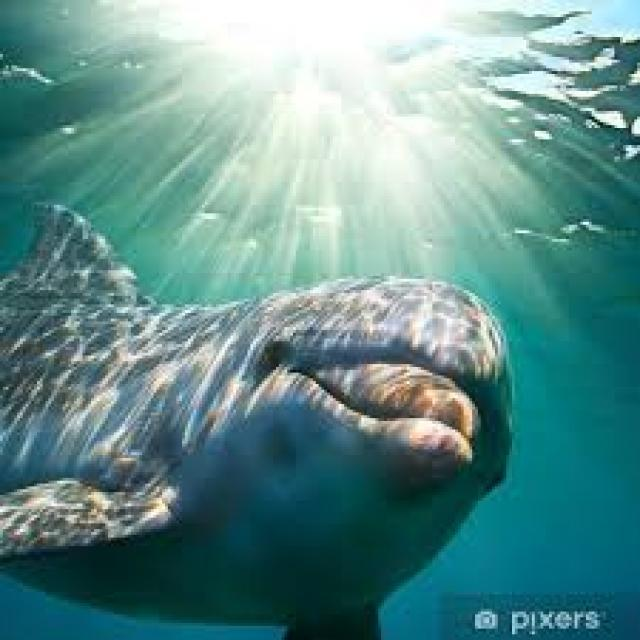dolphin: (0, 193, 498, 640)
